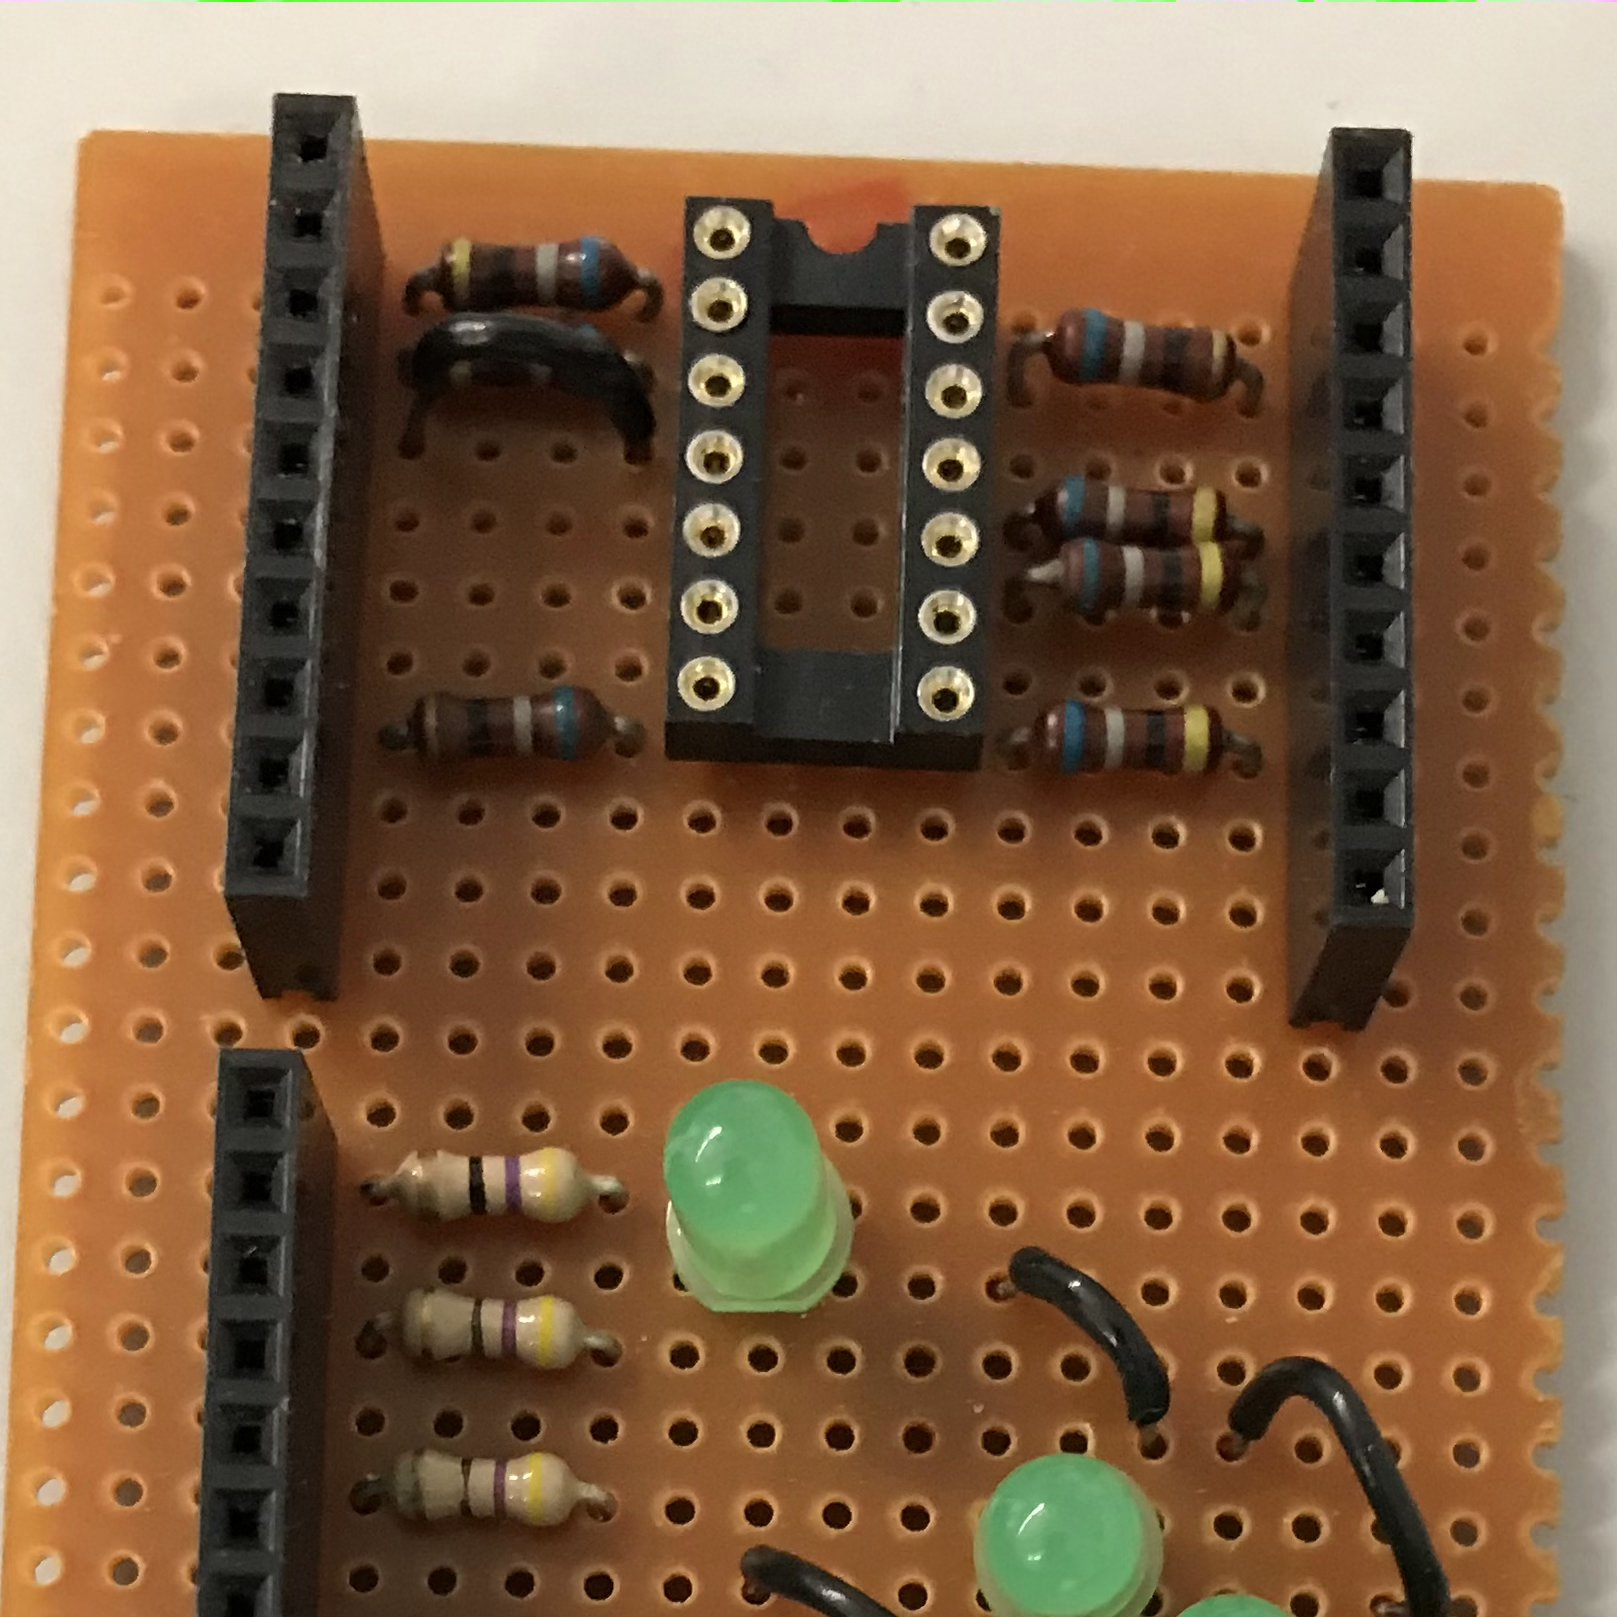LED: (656, 1077, 857, 1321), (965, 1448, 1170, 1617)
Resistor: (1037, 302, 1256, 412), (378, 1279, 607, 1380), (375, 1139, 617, 1231), (361, 1442, 600, 1534), (404, 680, 626, 769), (1014, 699, 1244, 782), (1013, 475, 1250, 555), (1037, 542, 1248, 628), (421, 234, 652, 309)
